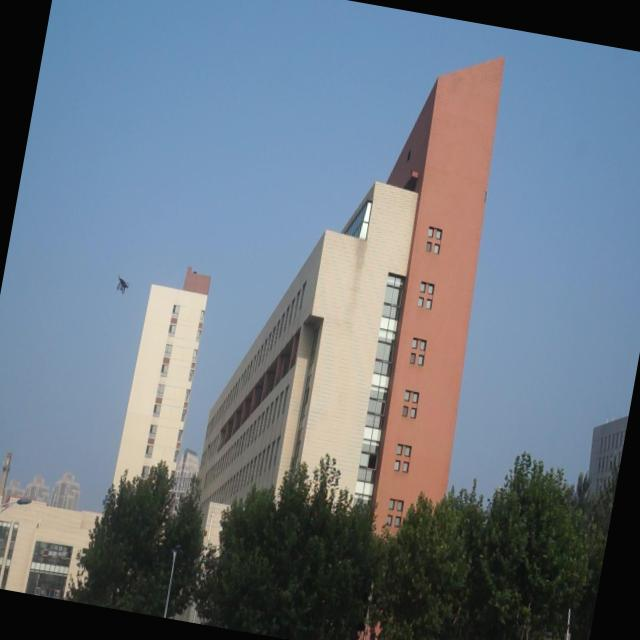drone: (111, 272, 133, 297)
